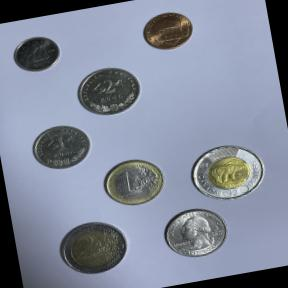1 Euro: (96, 152, 172, 214)
2 Euro: (51, 213, 135, 285)
Canda-10cent-: (7, 28, 67, 80)
Canda-2Dollar-: (182, 136, 274, 208)
Croatia-2Kune-: (70, 61, 148, 123)
US-1cent-: (136, 5, 200, 57)
US-25cent-: (156, 200, 232, 264)
